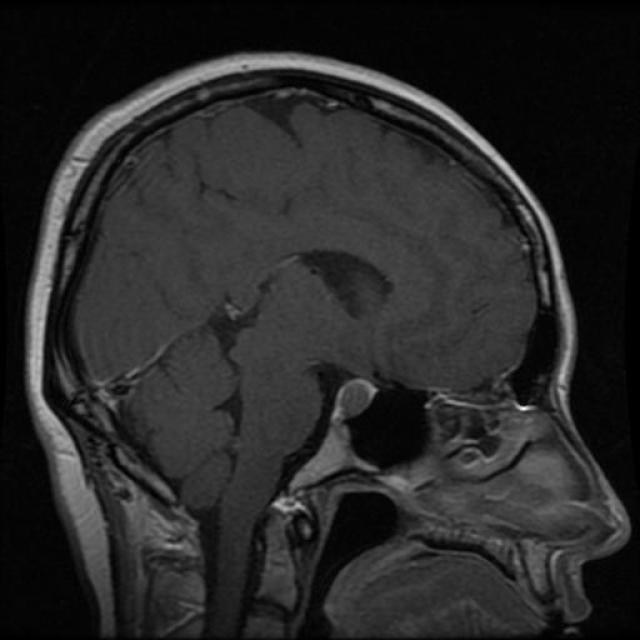pituitary: (320, 364, 388, 431)
